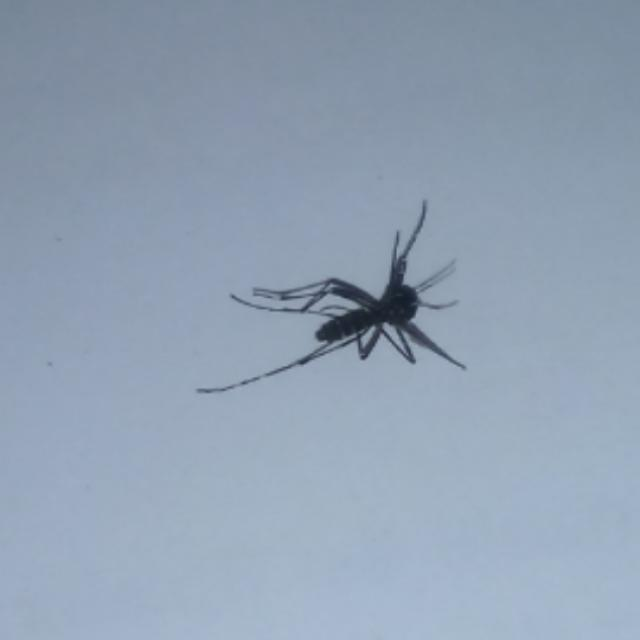albopictus: (206, 193, 475, 405)
